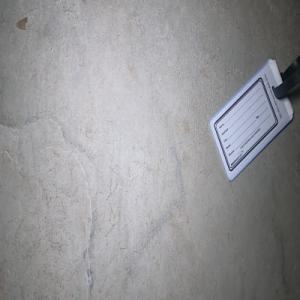LuggageTag: (207, 56, 300, 185)
